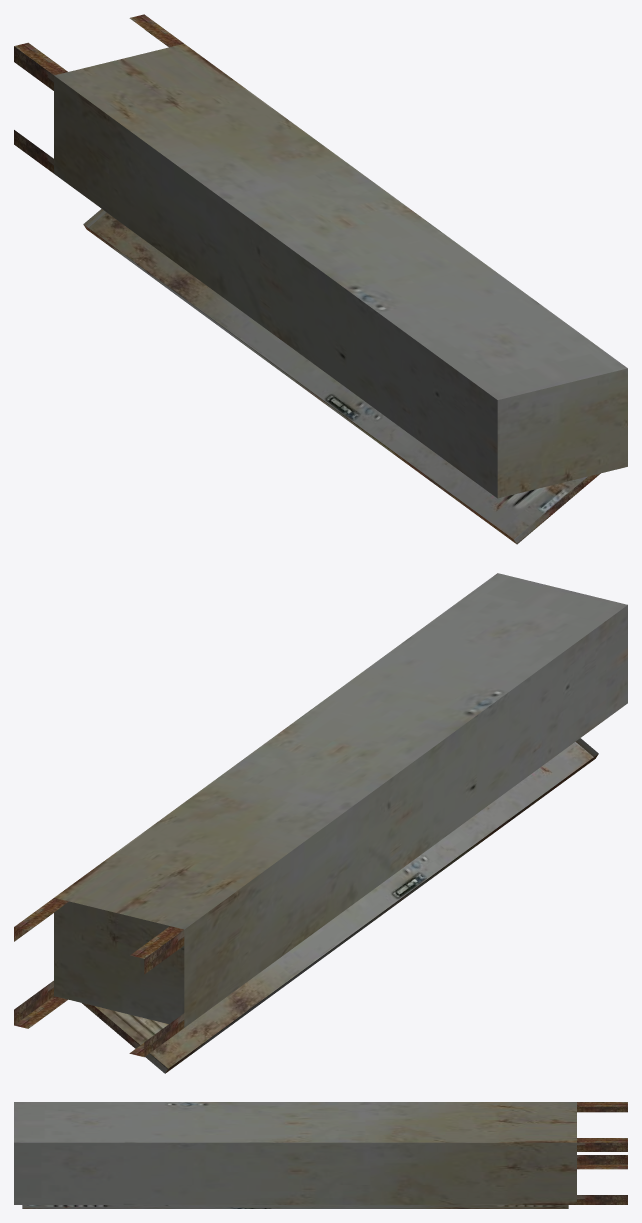
Rendered from prop_bunkerlocker_open.glb.
The picture shows the model from 3 angles, top to bottom: view 1: azimuth 30°, elevation 25°; view 2: azimuth 150°, elevation 25°; view 3: azimuth 270°, elevation 25°; orthographic projection. The views are drawn at different scales.
Size of the model in its own units: 12.1 by 13.8 by 77.78.
Materials: 1 (1 with a texture image).
